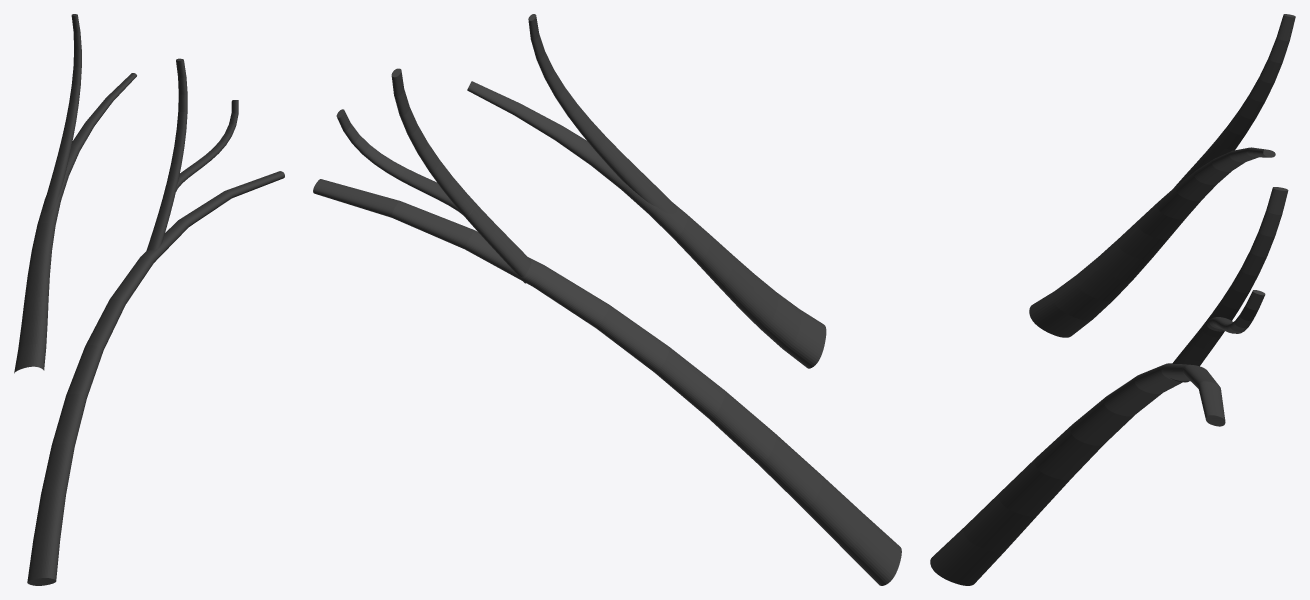
The model's file is N_10_vagus_cardiac.glb.
3 views of the same model, side by side, from view 1: azimuth 30°, elevation 25°; view 2: azimuth 150°, elevation 25°; view 3: azimuth 270°, elevation 25° (orthographic). The views are drawn at different scales.
Visible parts, largest first — view 1: N_10_vagus_cardiac; view 2: N_10_vagus_cardiac; view 3: N_10_vagus_cardiac.
Boxes of the visible parts, <box> form: N_10_vagus_cardiac: <box>14,14,284,585</box>; N_10_vagus_cardiac: <box>313,14,901,585</box>; N_10_vagus_cardiac: <box>930,14,1295,585</box>.
Bounding box in the file's own units: 0.00768 × 0.00995 × 0.00488.
1 material, 1 textured.
